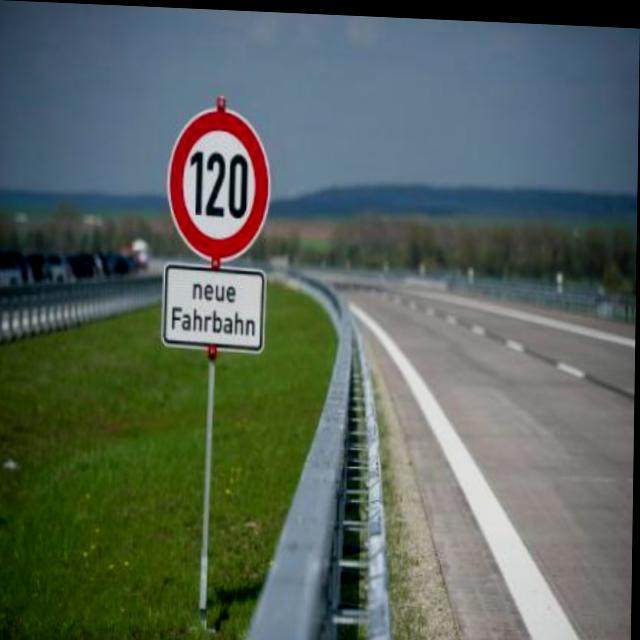limit120: (159, 95, 279, 266)
